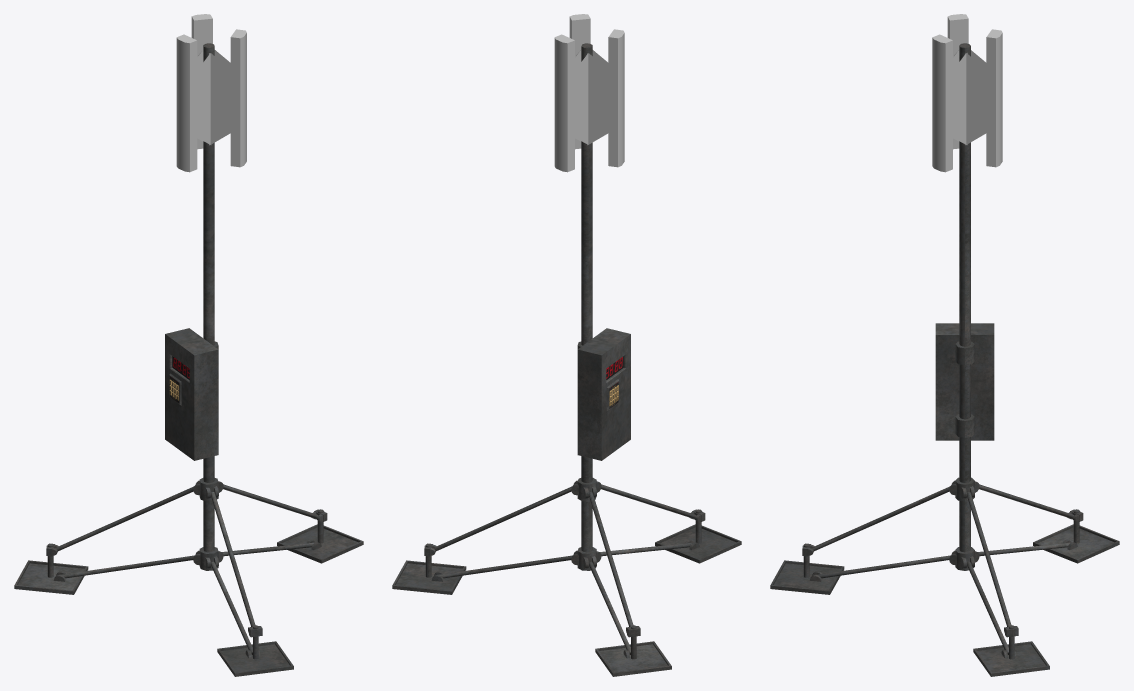
The model's file is RelayAntenna.fbx.
3 views of the same model, side by side, from view 1: azimuth 30°, elevation 25°; view 2: azimuth 150°, elevation 25°; view 3: azimuth 270°, elevation 25° (orthographic).
Visible parts, largest first — view 1: RelayAntenna; view 2: RelayAntenna; view 3: RelayAntenna.
Boxes of the visible parts, x1=… form: RelayAntenna: x1=14, y1=14, x2=363, y2=676; RelayAntenna: x1=392, y1=14, x2=741, y2=676; RelayAntenna: x1=770, y1=14, x2=1119, y2=676.
Bounding box in the file's own units: 1.49 × 2.62 × 1.47.
